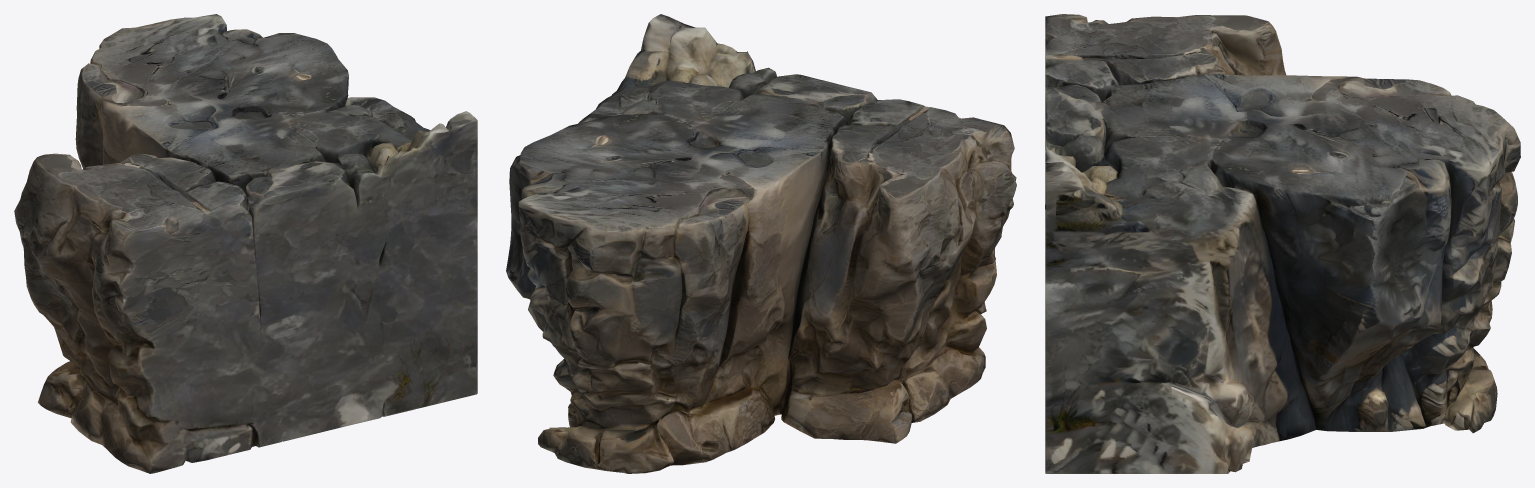
File: rockCliff.fbx
The picture shows the model from 3 angles, left to right: view 1: azimuth 30°, elevation 25°; view 2: azimuth 150°, elevation 25°; view 3: azimuth 270°, elevation 25°; orthographic projection. The views are drawn at different scales.
Parts seen in each view (by area): view 1: tripo_node_afc9949f; view 2: tripo_node_afc9949f; view 3: tripo_node_afc9949f.
Boxes of the visible parts, left/top/right/bottom form: tripo_node_afc9949f: left=14, top=14, right=477, bottom=473; tripo_node_afc9949f: left=506, top=14, right=1016, bottom=473; tripo_node_afc9949f: left=1045, top=14, right=1520, bottom=473.
Bounding box in the file's own units: 0.9925 × 0.7061 × 0.9996.
Materials: 1 (1 with a texture image).
